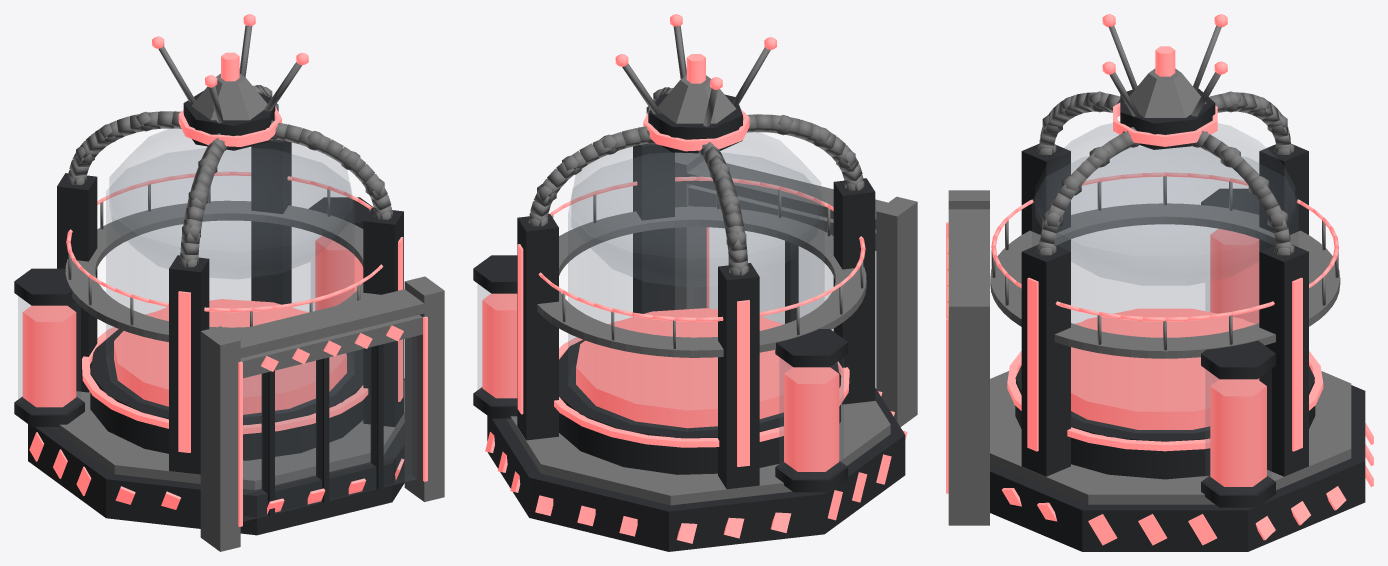
File: MonsterVat_EMBER.glb
3 views of the same model, side by side, from view 1: azimuth 30°, elevation 25°; view 2: azimuth 150°, elevation 25°; view 3: azimuth 270°, elevation 25° (orthographic). The views are drawn at different scales.
Parts seen in each view (by area): view 1: MonsterVat_EMBER, MonsterVat_EMBER_Gate; view 2: MonsterVat_EMBER, MonsterVat_EMBER_Gate; view 3: MonsterVat_EMBER.
Boxes of the visible parts, x1,y1,x2,y2 form: MonsterVat_EMBER: [14, 14, 444, 551]; MonsterVat_EMBER_Gate: [240, 315, 422, 521]; MonsterVat_EMBER: [473, 14, 917, 551]; MonsterVat_EMBER_Gate: [688, 185, 876, 387]; MonsterVat_EMBER: [946, 14, 1373, 551].
Bounding box in the file's own units: 5.08 × 5.69 × 5.14.
